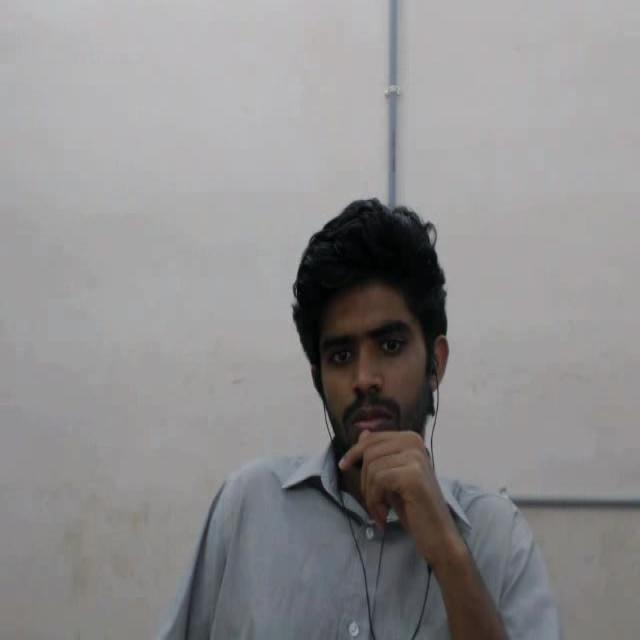Bored: (269, 179, 479, 526)
